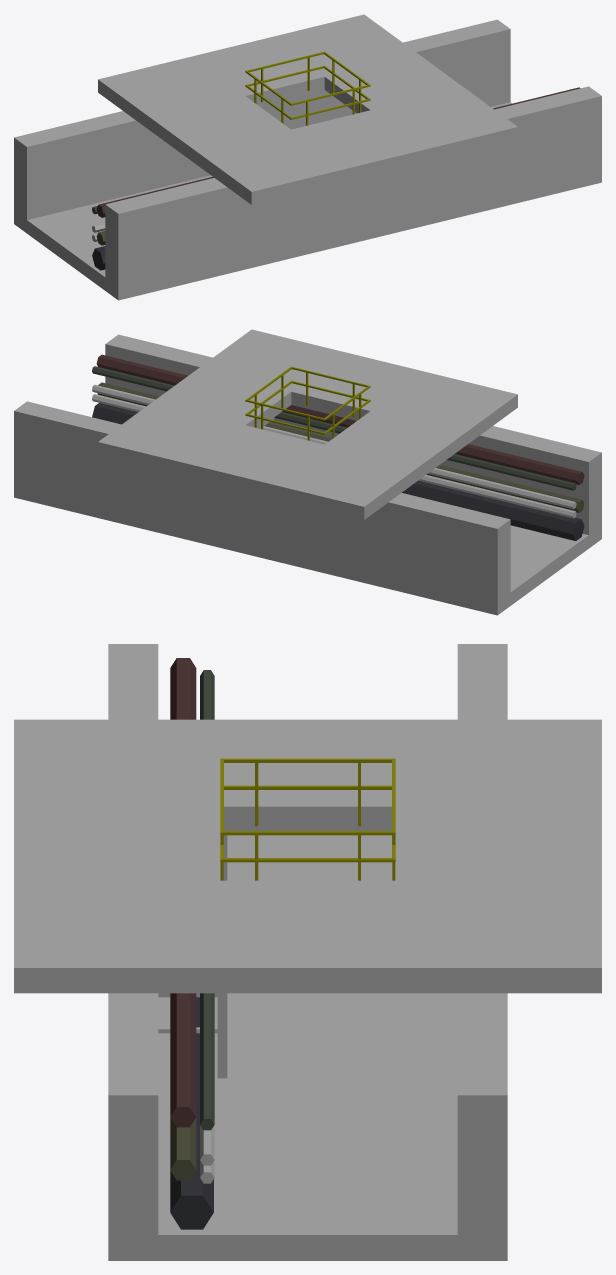
File: Dreamhole_scaled.fbx
3 renders of one model, top to bottom at view 1: azimuth 30°, elevation 25°; view 2: azimuth 150°, elevation 25°; view 3: azimuth 270°, elevation 25°, orthographic. The views are drawn at different scales.
Parts seen in each view (by area): view 1: polySurface3, pCube1, polySurface14, polySurface5; view 2: polySurface3, pCube1, polySurface9, polySurface5, polySurface4, polySurface14, polySurface8, polySurface6, polySurface7; view 3: pCube1, polySurface3, polySurface5, polySurface14, polySurface4, polySurface9, polySurface6, polySurface20.
Boxes of the visible parts, x1=… form: polySurface3: x1=14, y1=19, x2=601, y2=300; pCube1: x1=98, y1=14, x2=517, y2=204; polySurface14: x1=245, y1=51, x2=370, y2=125; polySurface5: x1=96, y1=87, x2=580, y2=217; polySurface3: x1=14, y1=334, x2=601, y2=615; pCube1: x1=98, y1=329, x2=517, y2=519; polySurface9: x1=92, y1=403, x2=584, y2=540; polySurface5: x1=96, y1=354, x2=584, y2=484; polySurface4: x1=92, y1=366, x2=576, y2=490; polySurface14: x1=245, y1=366, x2=370, y2=440; polySurface8: x1=92, y1=384, x2=576, y2=509; polySurface6: x1=97, y1=382, x2=584, y2=512; polySurface7: x1=92, y1=394, x2=576, y2=518; pCube1: x1=14, y1=719, x2=601, y2=993; polySurface3: x1=108, y1=644, x2=507, y2=1260; polySurface5: x1=170, y1=658, x2=196, y2=1127; polySurface14: x1=220, y1=758, x2=395, y2=880; polySurface4: x1=200, y1=670, x2=214, y2=1130; polySurface9: x1=170, y1=997, x2=213, y2=1229; polySurface6: x1=170, y1=1118, x2=196, y2=1180; polySurface20: x1=158, y1=993, x2=227, y2=1078.
Size of the model in its own units: 3678 by 911 by 2025.
